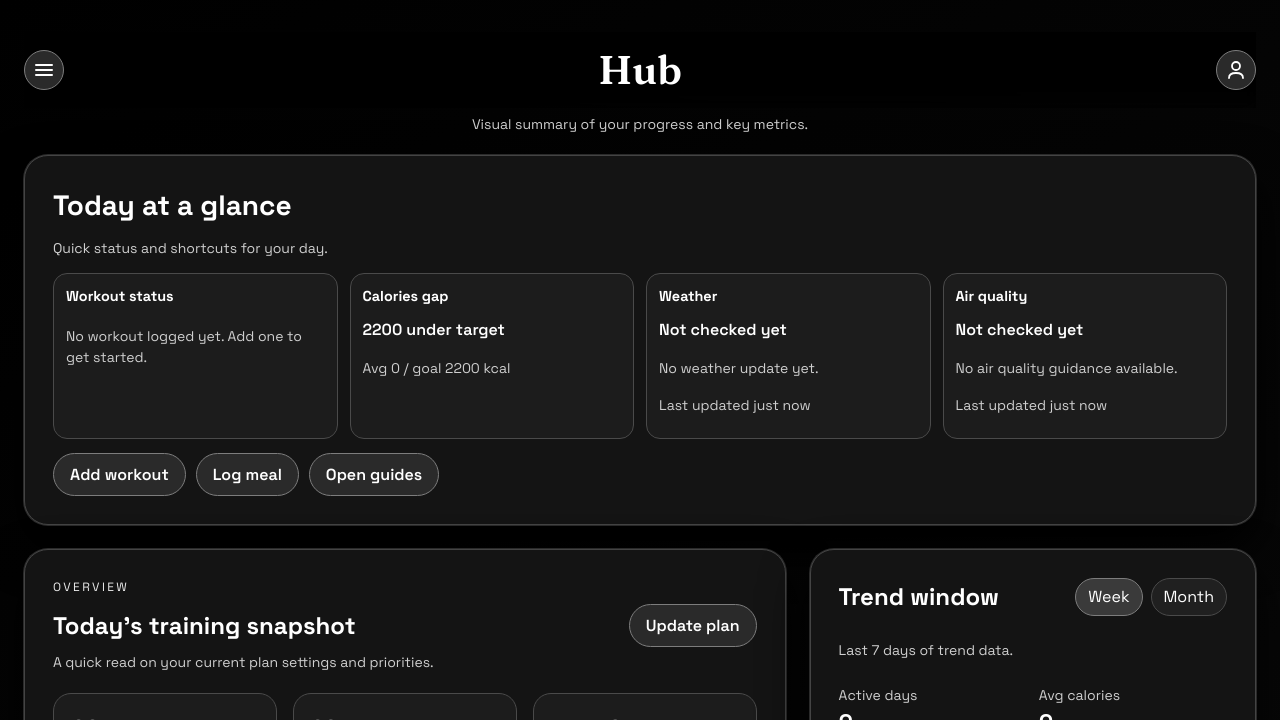
Test: Dashboard integration flows › switches pages from drawer navigation
Click the button named "open dashboard menu".
click(44, 70)  # box [24, 50, 64, 90]
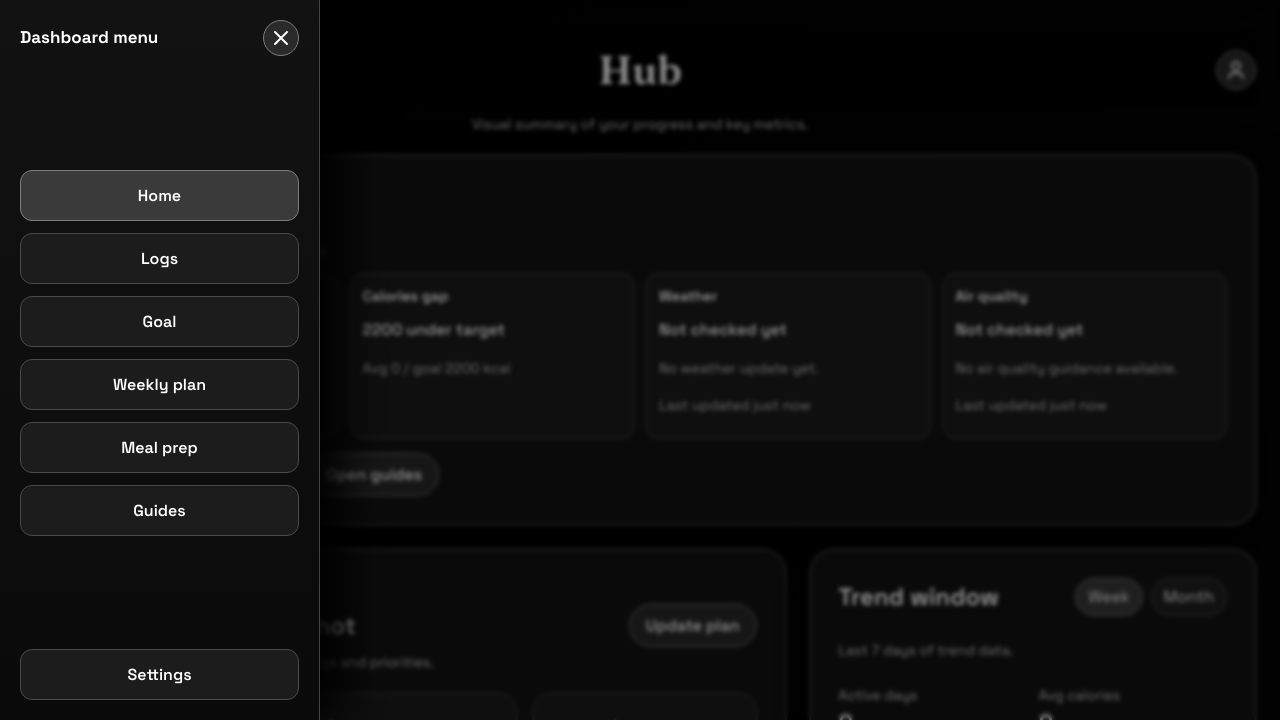
Click the button "Logs".
click(160, 258)  # box [20, 232, 299, 284]
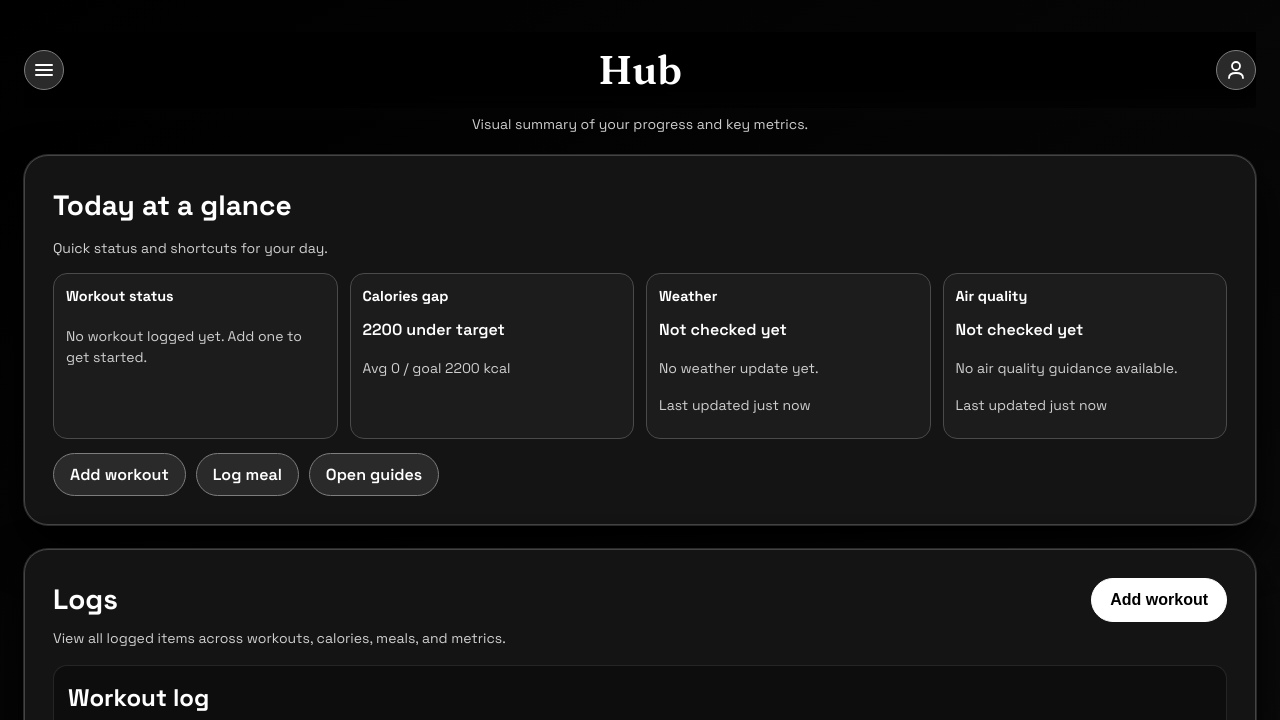
Now the heading "Logs" is shown, box [53, 581, 118, 617]
